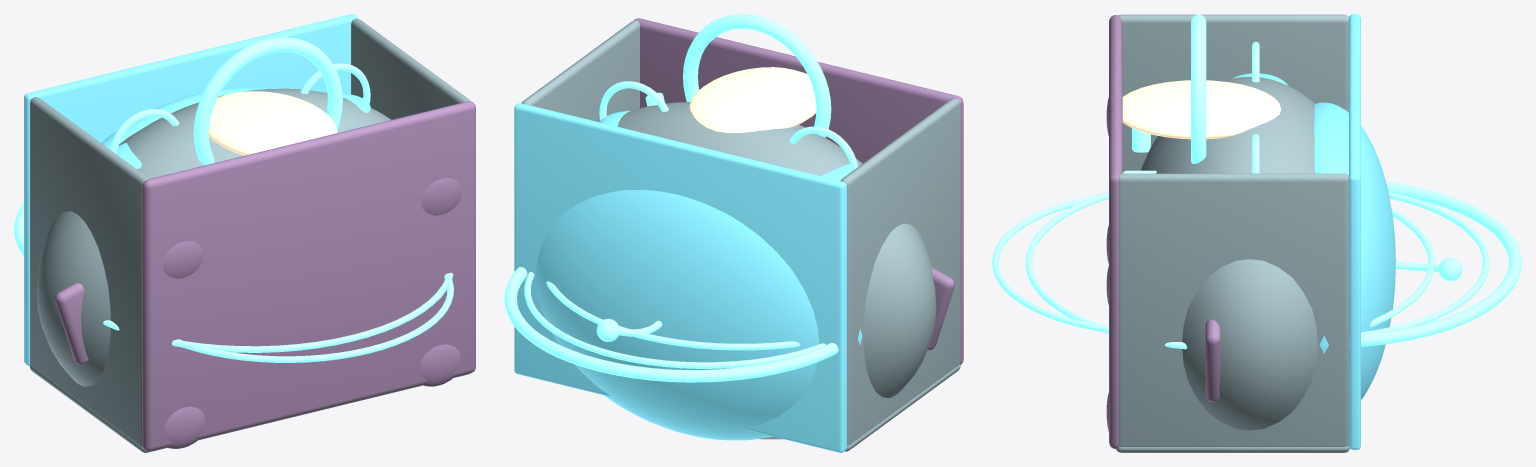
Rendered from habitat-pod.glb.
The picture shows the model from 3 angles, left to right: view 1: azimuth 30°, elevation 25°; view 2: azimuth 150°, elevation 25°; view 3: azimuth 270°, elevation 25°; orthographic projection. The views are drawn at different scales.
Parts seen in each view (by area): view 1: HabitatInterior_Floor, HabitatInterior_LeftWall, HabitatInterior_Ceiling, HabitatPod_MainPressureShell, Door_Airlock, HabitatInterior_RightWall, HabitatPod_AirlockRing, HabitatPod_ShellSeam_0.62, HabitatPod_ShellSeam_1.42, HabitatPod_SideFin_L, HabitatPod_LandingFoot_1, HabitatPod_LandingFoot_2 (+6 smaller); view 2: HabitatPod_TransparentDome, HabitatInterior_Ceiling, HabitatInterior_LeftWall, HabitatPod_MainPressureShell, HabitatInterior_Floor, Door_Airlock, HabitatInterior_RightWall, HabitatPod_RoofEnergyRing, HabitatPod_AirlockRing, HabitatPod_ShellSeam_2.30, HabitatPod_ShellSeam_1.42, HabitatPod_SideFin_L (+3 smaller); view 3: HabitatInterior_RightWall, HabitatPod_MainPressureShell, HabitatInterior_LeftWall, HabitatPod_TransparentDome, Door_Airlock, HabitatInterior_Ceiling, HabitatInterior_Floor, HabitatPod_RoofEnergyRing, HabitatPod_ShellSeam_1.42, HabitatPod_AirlockRing, HabitatPod_ShellSeam_0.62, HabitatPod_ShellSeam_2.30 (+2 smaller).
Part boxes in pixels (<box>): HabitatInterior_Floor: <box>142,101,475,451</box>; HabitatInterior_LeftWall: <box>30,97,149,446</box>; HabitatInterior_Ceiling: <box>24,14,358,365</box>; HabitatPod_MainPressureShell: <box>36,88,391,386</box>; Door_Airlock: <box>208,91,337,155</box>; HabitatInterior_RightWall: <box>351,18,470,119</box>; HabitatPod_AirlockRing: <box>193,37,342,164</box>; HabitatPod_ShellSeam_0.62: <box>177,273,453,362</box>; HabitatPod_ShellSeam_1.42: <box>103,272,453,352</box>; HabitatPod_SideFin_L: <box>55,283,88,365</box>; HabitatPod_LandingFoot_1: <box>164,406,205,448</box>; HabitatPod_LandingFoot_2: <box>420,344,460,386</box>; HabitatPod_TransparentDome: <box>536,190,862,440</box>; HabitatInterior_Ceiling: <box>514,103,846,452</box>; HabitatInterior_LeftWall: <box>840,98,960,445</box>; HabitatPod_MainPressureShell: <box>617,102,936,439</box>; HabitatInterior_Floor: <box>634,18,963,364</box>; Door_Airlock: <box>689,67,816,133</box>; HabitatInterior_RightWall: <box>521,20,639,122</box>; HabitatPod_RoofEnergyRing: <box>504,267,838,382</box>; HabitatPod_AirlockRing: <box>683,14,831,137</box>; HabitatPod_ShellSeam_2.30: <box>524,272,825,368</box>; HabitatPod_ShellSeam_1.42: <box>546,281,800,350</box>; HabitatPod_SideFin_L: <box>927,268,954,350</box>; HabitatInterior_RightWall: <box>1118,173,1349,446</box>; HabitatPod_MainPressureShell: <box>1140,77,1317,430</box>; HabitatInterior_LeftWall: <box>1118,14,1349,172</box>; HabitatPod_TransparentDome: <box>1314,102,1395,399</box>; Door_Airlock: <box>1122,80,1281,139</box>; HabitatInterior_Ceiling: <box>1349,14,1360,449</box>; HabitatInterior_Floor: <box>1109,15,1122,448</box>; HabitatPod_RoofEnergyRing: <box>1349,181,1521,346</box>; HabitatPod_ShellSeam_1.42: <box>1025,191,1435,349</box>; HabitatPod_AirlockRing: <box>1191,14,1206,163</box>; HabitatPod_ShellSeam_0.62: <box>992,193,1108,331</box>; HabitatPod_ShellSeam_2.30: <box>1361,191,1489,333</box>.
Bounding box in the file's own units: 5.63 × 5.16 × 6.21.
